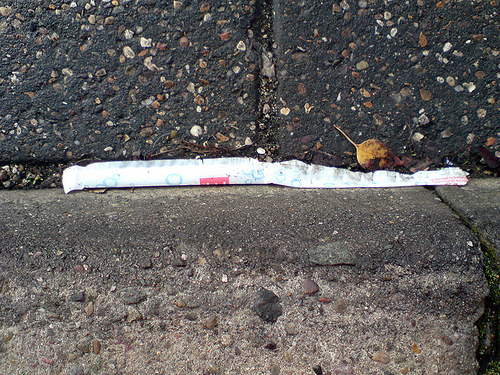litter: (63, 160, 469, 189)
